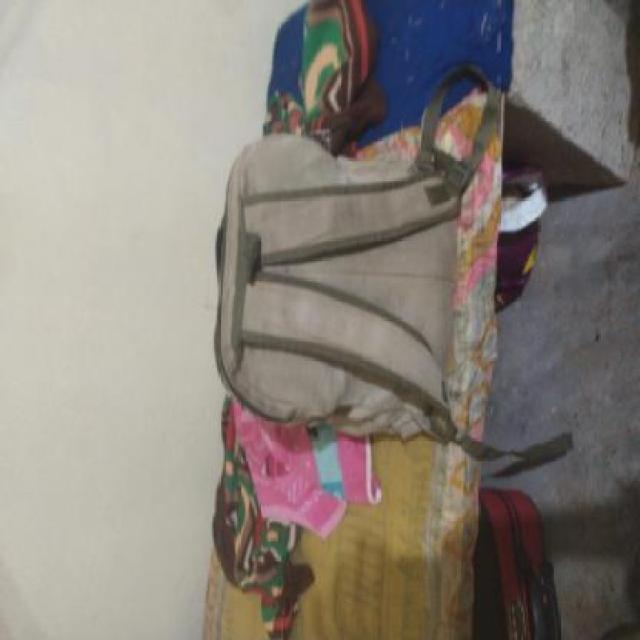backpack: (209, 131, 474, 449)
